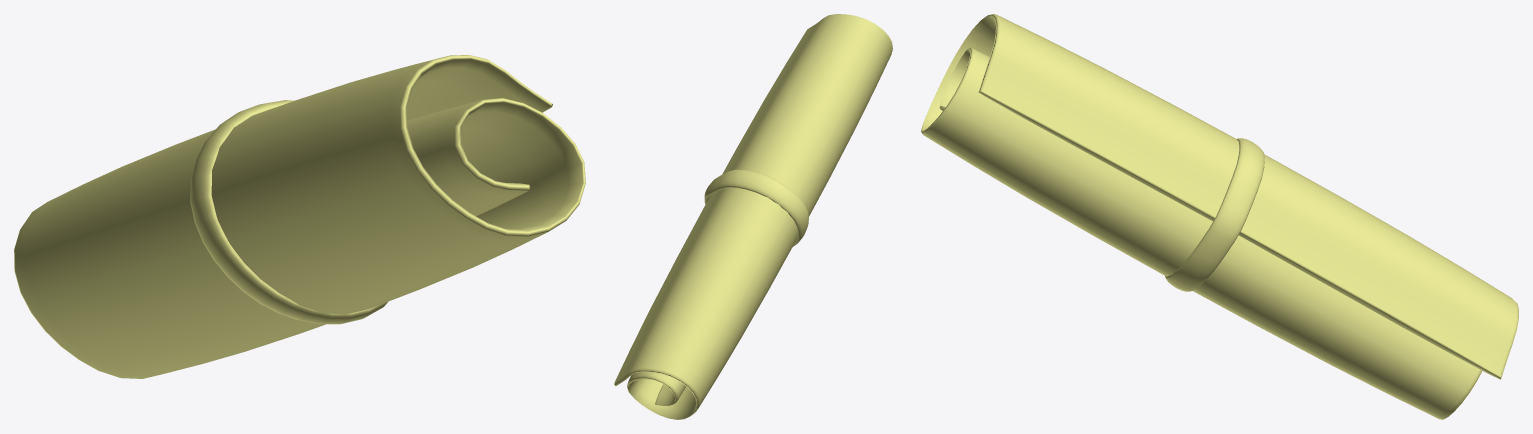
Rendered from map_grp.fbx.
The picture shows the model from 3 angles, left to right: view 1: azimuth 30°, elevation 25°; view 2: azimuth 150°, elevation 25°; view 3: azimuth 270°, elevation 25°; orthographic projection. The views are drawn at different scales.
Parts seen in each view (by area): view 1: sweep1, sweep2; view 2: sweep1, sweep2; view 3: sweep1, sweep2.
Boxes of the visible parts, <box> form: sweep1: <box>14,55,585,378</box>; sweep2: <box>190,100,387,324</box>; sweep1: <box>614,14,892,419</box>; sweep2: <box>704,169,808,246</box>; sweep1: <box>921,14,1518,419</box>; sweep2: <box>1165,138,1264,291</box>.
Bounding box in the file's own units: 2.16 × 5.97 × 8.46.
